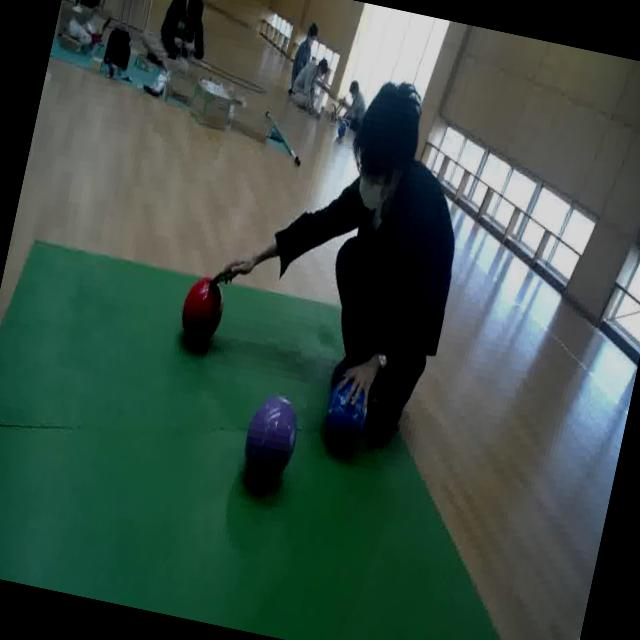blue_ball: (318, 379, 372, 455)
purple_ball: (237, 390, 306, 492)
red_ball: (177, 271, 229, 346)
